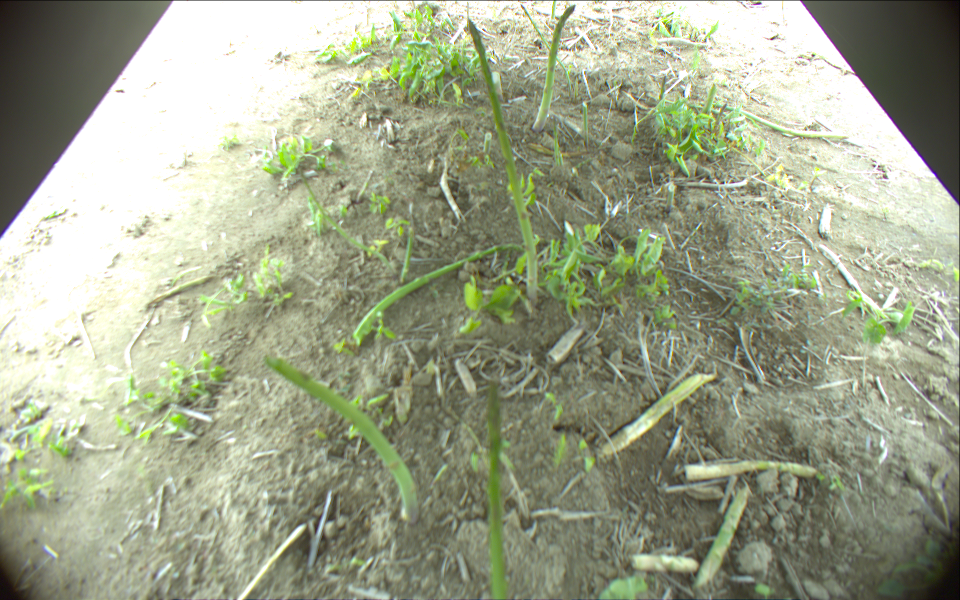aspa: (261, 351, 419, 522), (464, 18, 539, 303), (353, 243, 522, 346), (600, 372, 714, 457), (298, 166, 389, 267), (693, 486, 752, 590), (485, 383, 513, 600), (705, 100, 849, 140), (234, 522, 305, 600), (532, 5, 575, 130), (521, 6, 576, 100), (684, 457, 817, 480), (629, 553, 696, 572), (402, 227, 414, 283), (701, 83, 718, 118), (658, 76, 668, 108), (549, 1, 559, 26)
